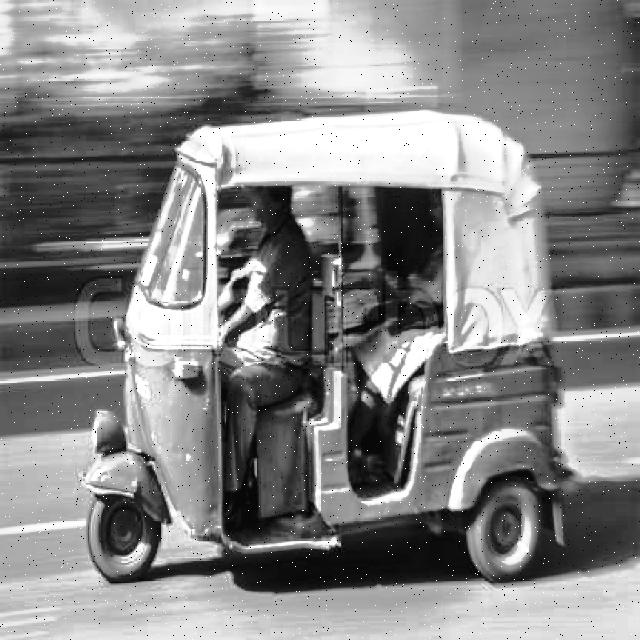Auto-Rickshaw: (77, 112, 572, 590)
